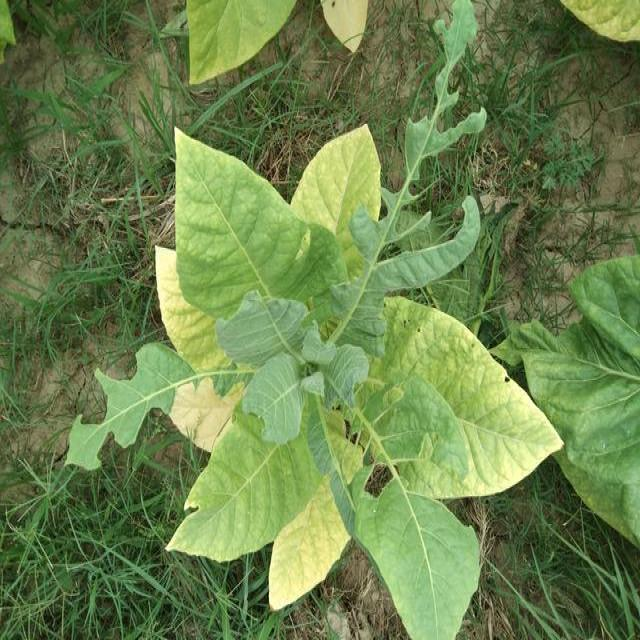crop: (147, 115, 575, 640)
